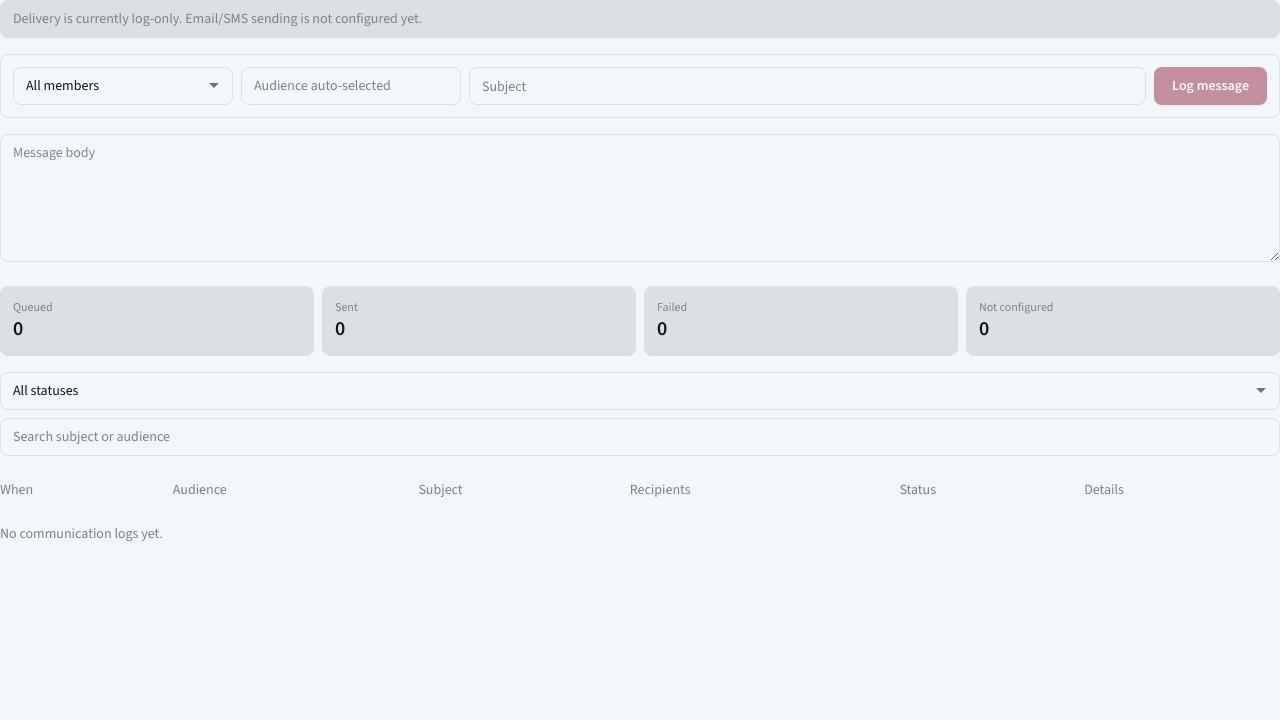
specific communication recipients › starts with the current course filter when switching from a course audience
In the field with placeholder "Subject": (808, 86) [469, 67, 1146, 105], type "Hello"
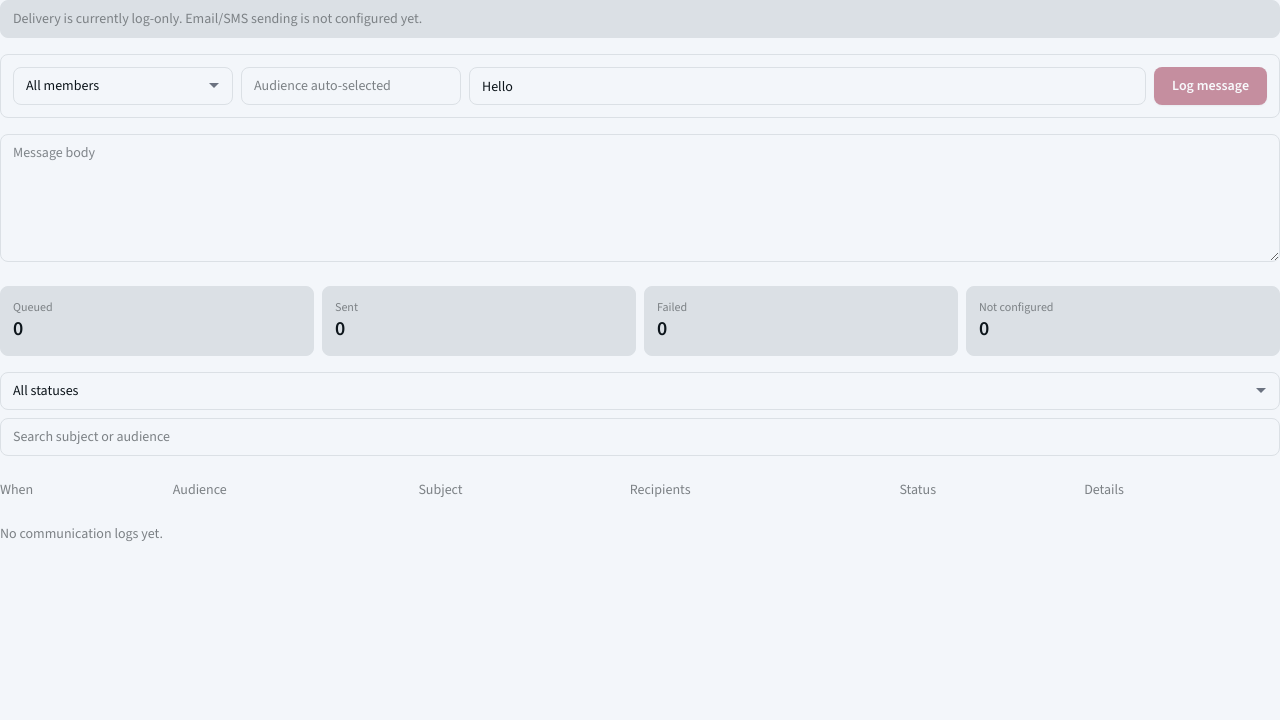
In the text box with placeholder "Message body": (640, 198) [0, 134, 1279, 262], type "Course reminder"
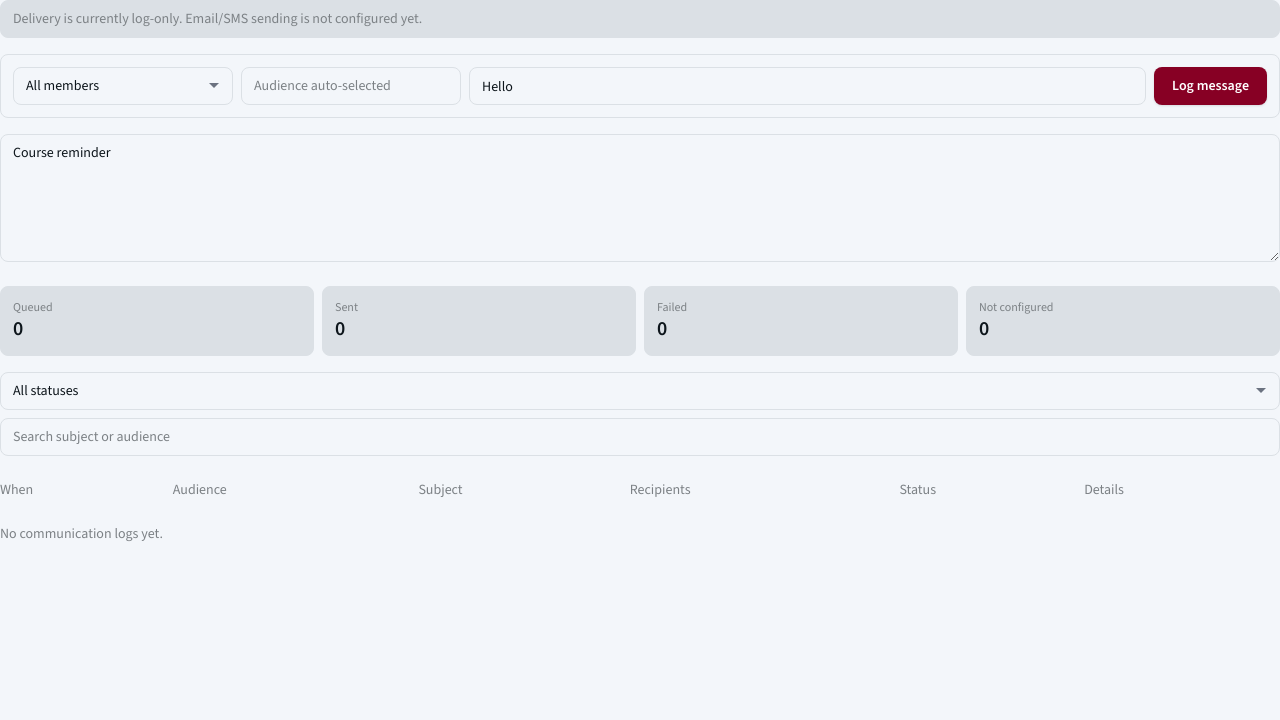
Select "Specific course" in the dropdown named "Recipients": (123, 86) [13, 67, 233, 105]
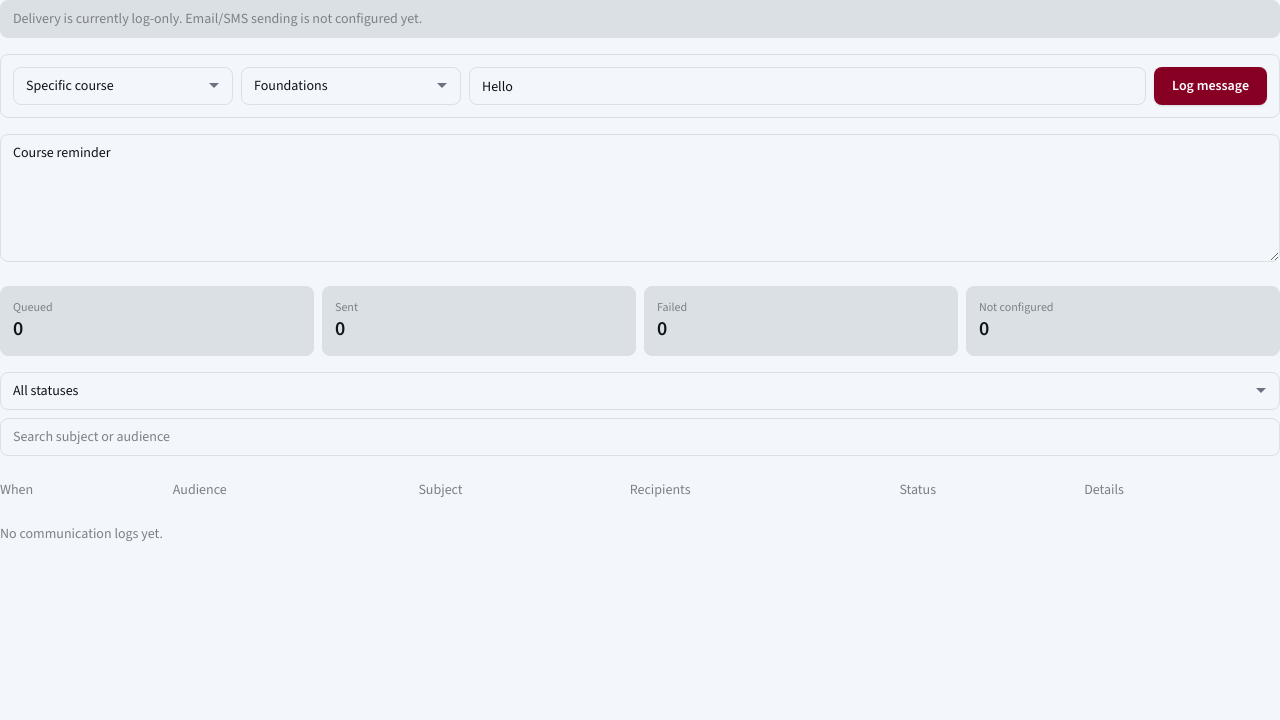
Select "Specific recipients" in the dropdown named "Recipients": (123, 86) [13, 67, 233, 105]
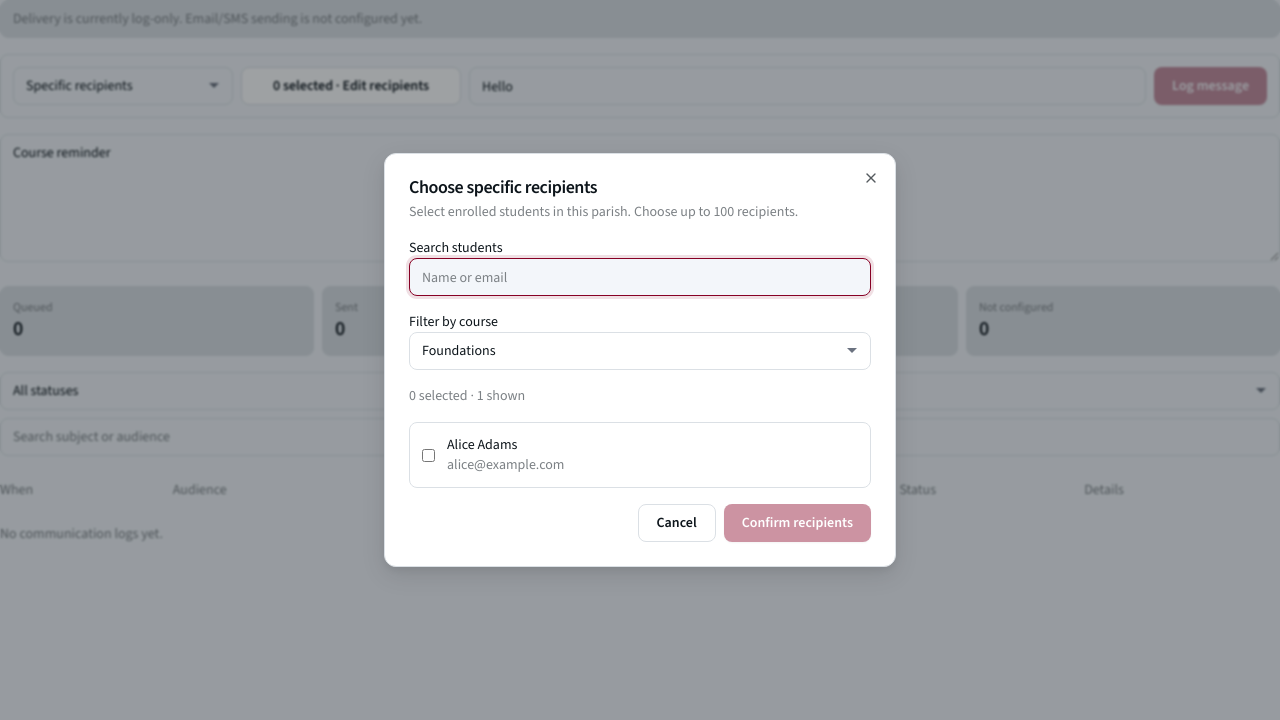
Expected: the dropdown labelled "Filter by course" shows "Foundations", [409, 332, 871, 370]
Expected: the number of checkboxes is 1, [422, 448, 435, 462]
